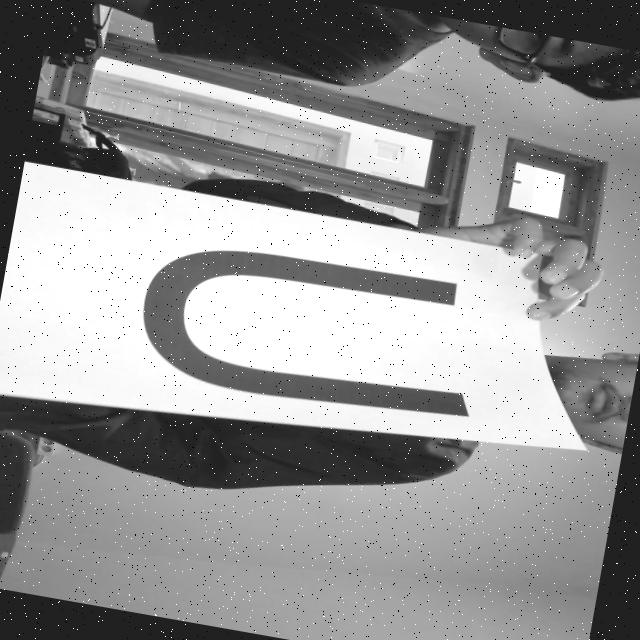u: (120, 221, 502, 444)
